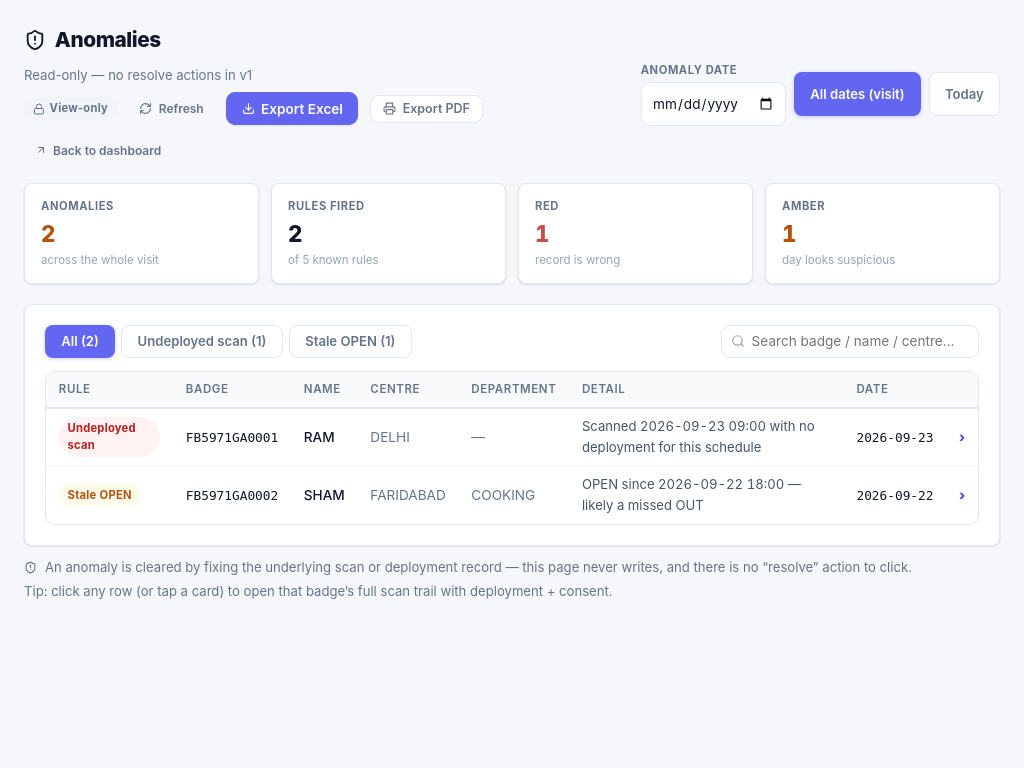
Test: filtering — chips and search narrow the table, not the counts › clicking a rule chip keeps only that rule
Check: the button with aria-label "Open details for row 1" is shown, box [46,408,978,466]
Click the button "Undeployed scan (1)": x=202, y=342 [121,325,283,358]
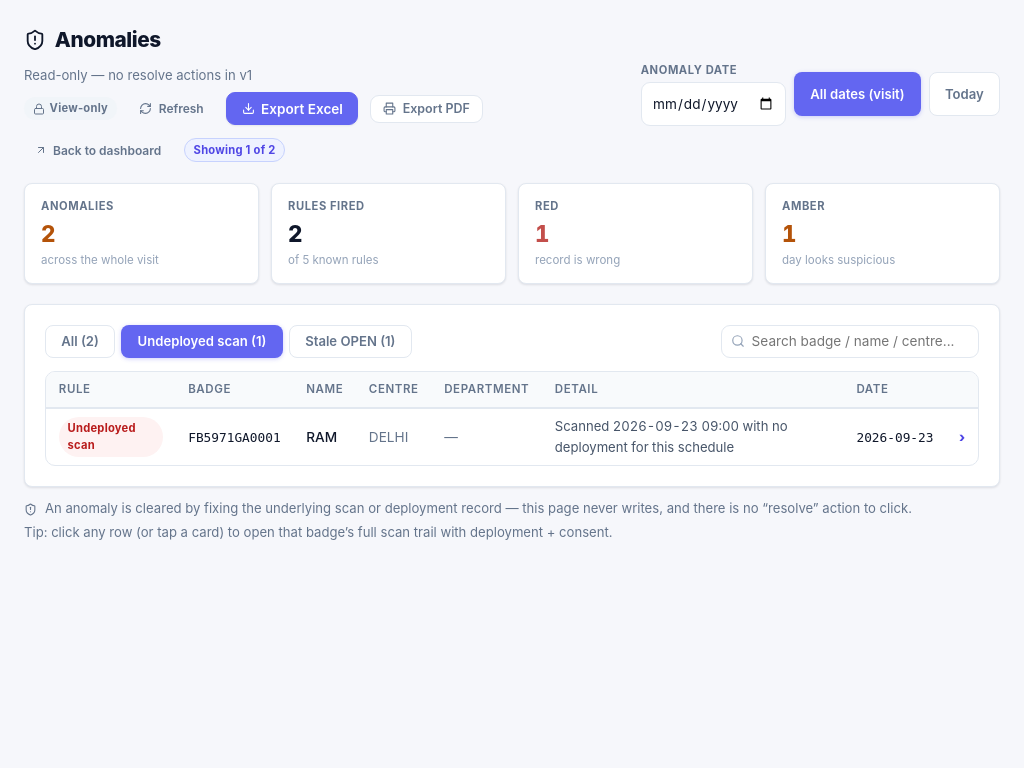
Check: the button with aria-label "Open details for row 1" shows "FB5971GA0001", box [46,408,978,466]
Check: the button "FB5971GA0002" no longer shows "FB5971GA0002"
